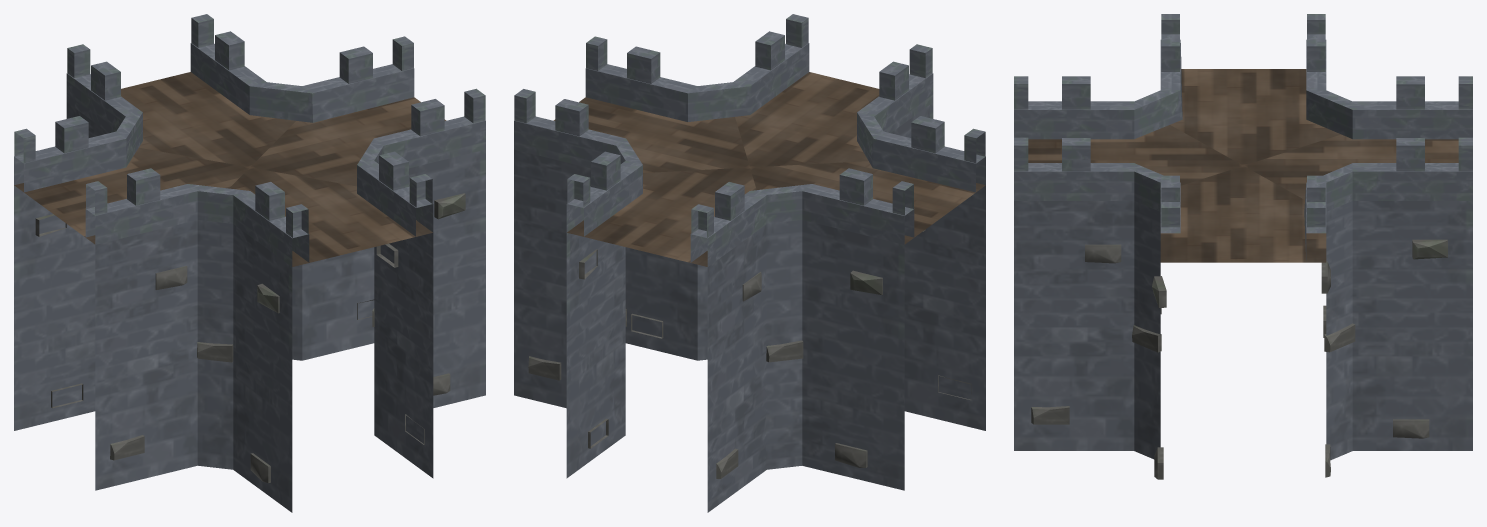
The model's file is SM_Fortress_Cross.fbx.
3 renders of one model, left to right at view 1: azimuth 30°, elevation 25°; view 2: azimuth 150°, elevation 25°; view 3: azimuth 270°, elevation 25°, orthographic.
Parts seen in each view (by area): view 1: polySurface1160; view 2: polySurface1160; view 3: polySurface1160.
Boxes of the visible parts, <box> form: polySurface1160: <box>14,14,485,512</box>; polySurface1160: <box>514,14,985,512</box>; polySurface1160: <box>1014,14,1472,479</box>.
Bounding box in the file's own units: 914 × 670 × 914.
